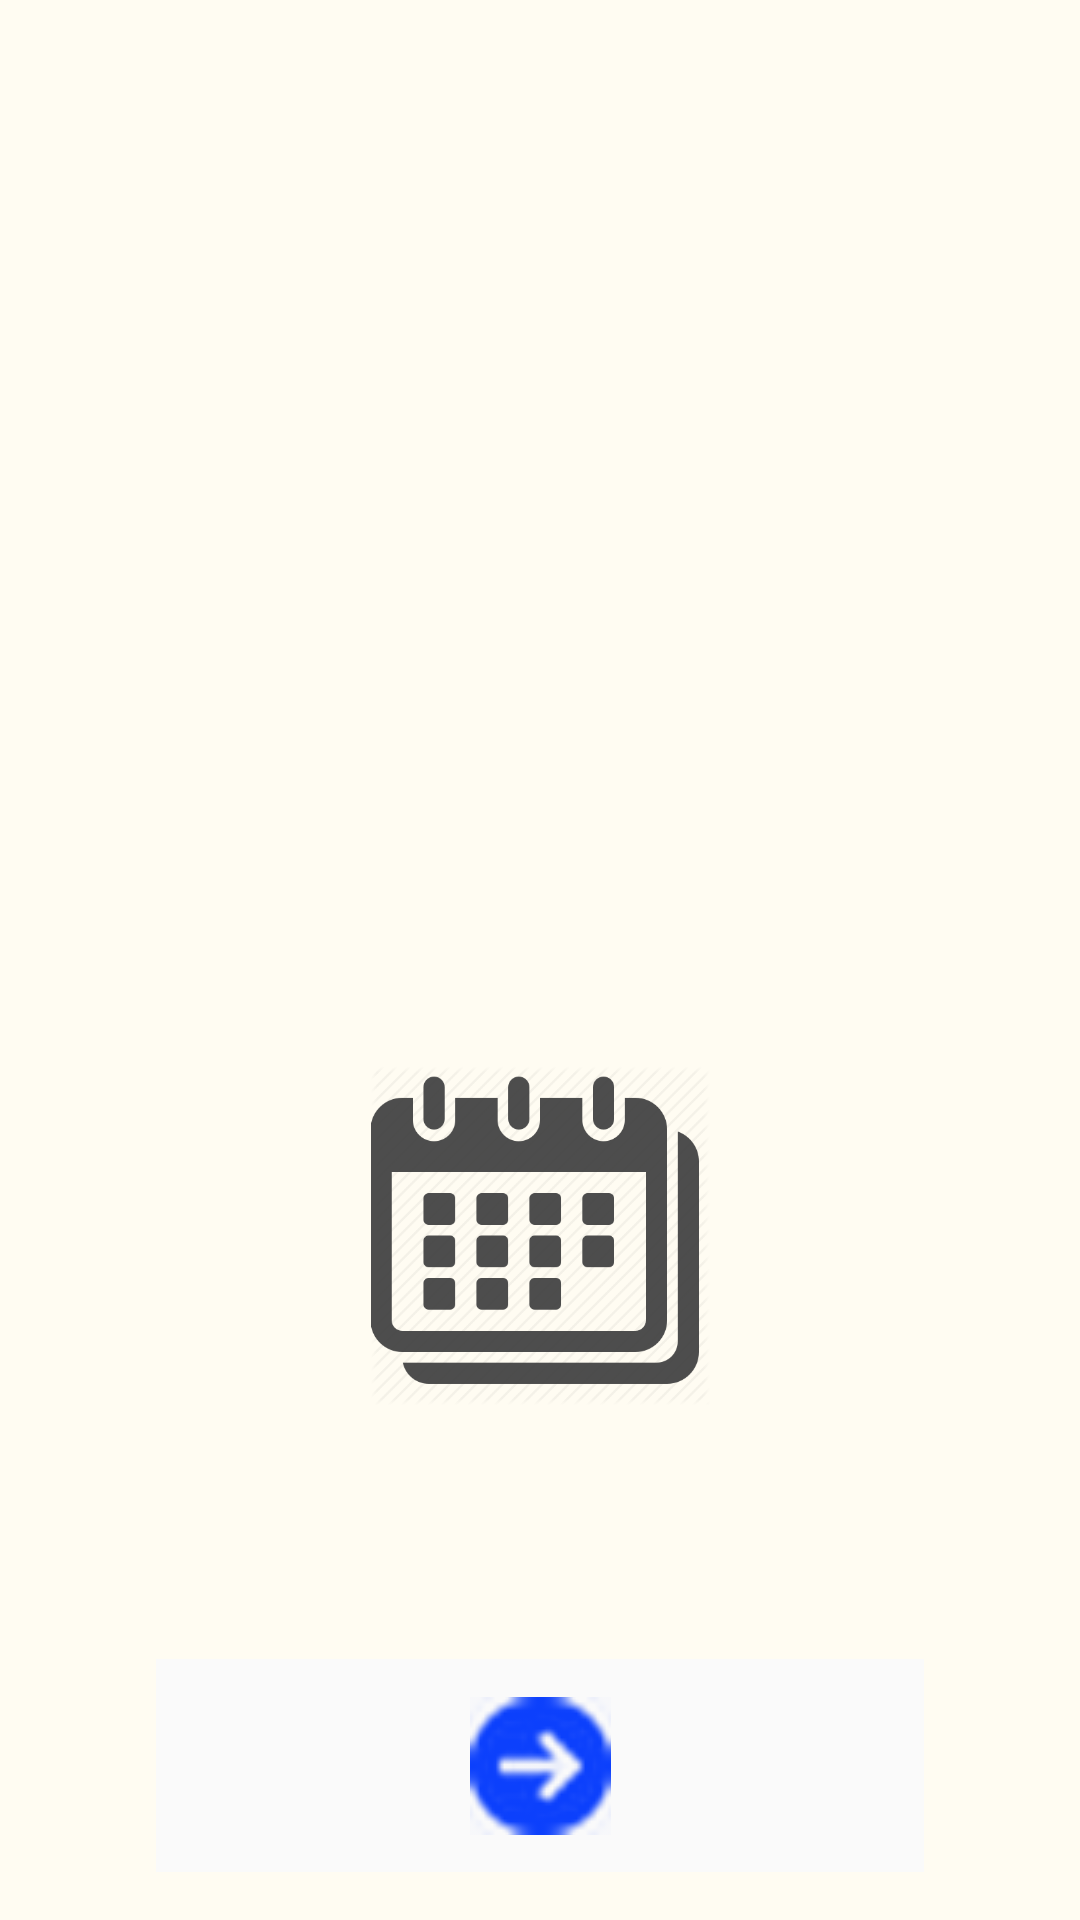

Icons on this 1080*1920 Android screen, each with its box as box(x1, y1, x2, y2):
date: box(371, 1076, 699, 1384)
next: box(470, 1697, 611, 1835)
